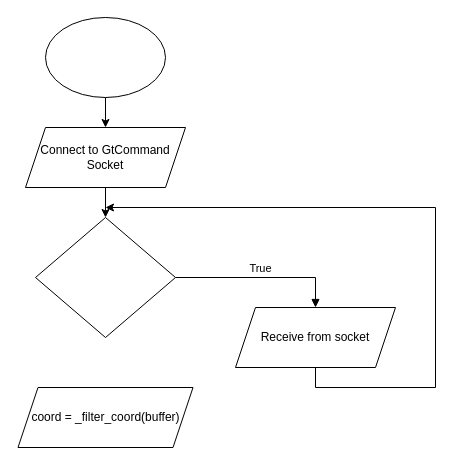
The diagram is 461 pixels wide and 465 high, and some of its shapes have lost their labels. The shapes that lost their labels are listed below. From the top down, each one's centre as x and y in pixels, then its label:
the point at 105,57: _record
the point at 105,277: ";" not in buffer
